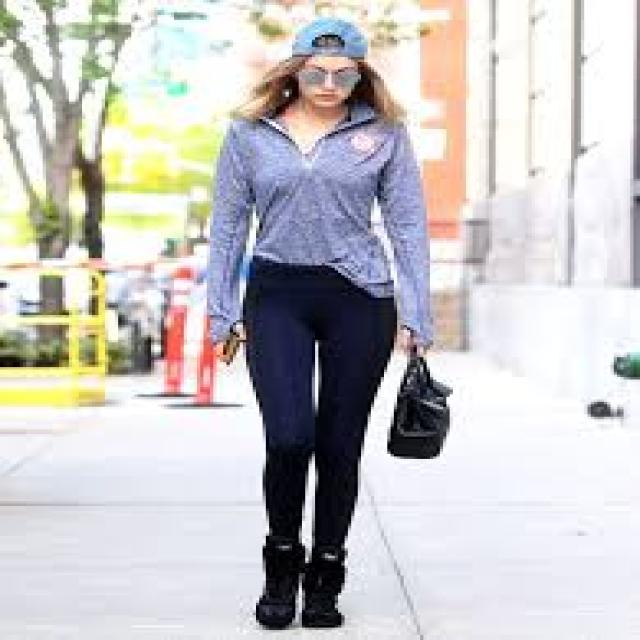cap: (262, 7, 413, 97)
